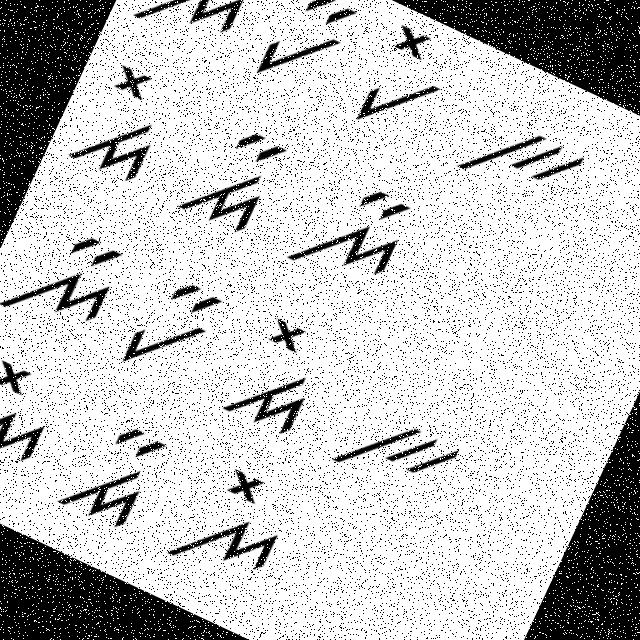dan: (160, 106, 304, 250), (53, 404, 180, 542)
do: (216, 306, 350, 451), (58, 52, 185, 194)
go: (342, 15, 459, 150)
nan: (280, 160, 430, 316), (0, 207, 140, 354)
no: (160, 451, 309, 601), (0, 341, 72, 494), (131, 0, 270, 63)
pan: (112, 260, 228, 392), (247, 0, 369, 106)
